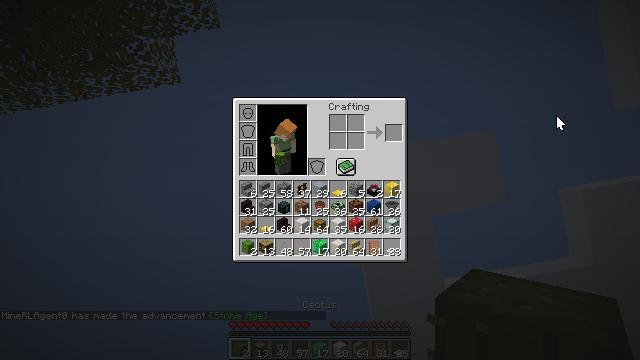cursor: (556, 115, 566, 131)
